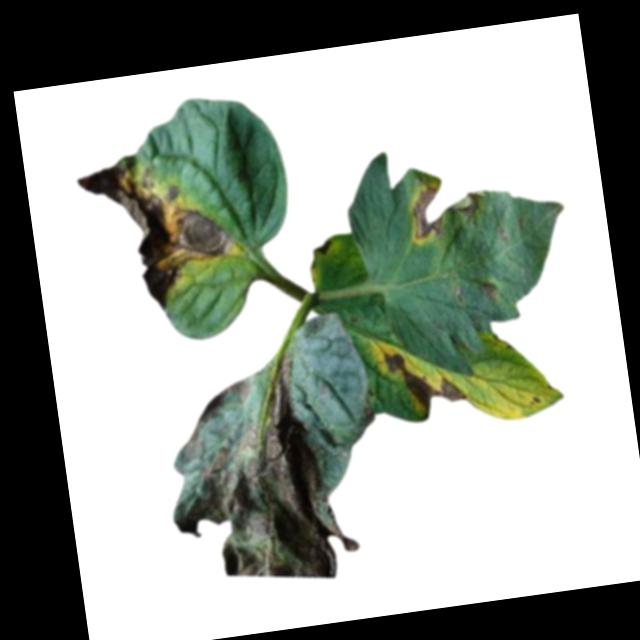Early_blight: (152, 346, 363, 599), (73, 140, 243, 320), (381, 342, 470, 423), (406, 175, 486, 246), (478, 274, 501, 300), (311, 239, 337, 255), (361, 398, 376, 425)
